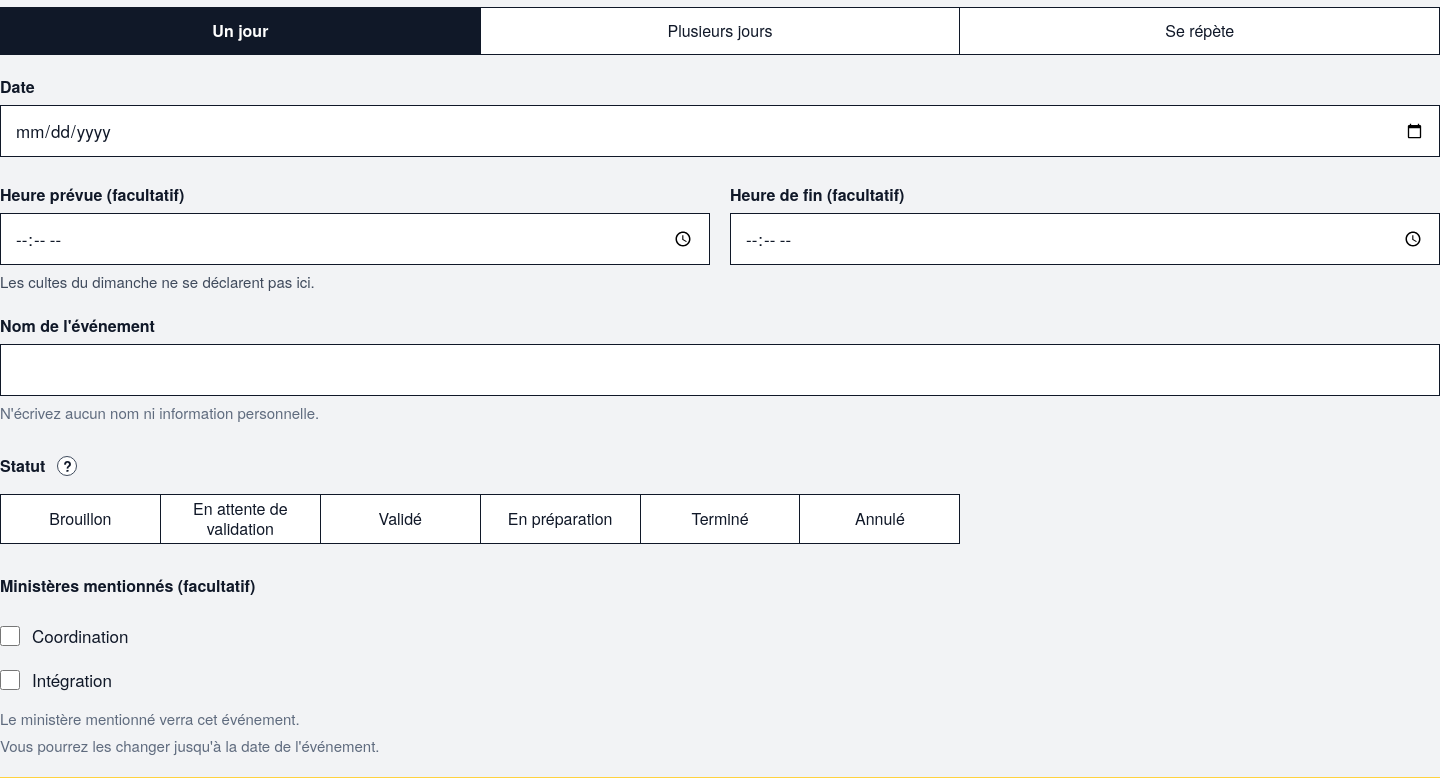
it: « Ajouter un événement » (maquette 11) › envoi : valeurs nettoyées, message de réussite, formulaire vidé
Type "2026-10-10" into the date field labelled "Date".
click(720, 131); type("2026-10-10")  # box [0,105,1439,157]
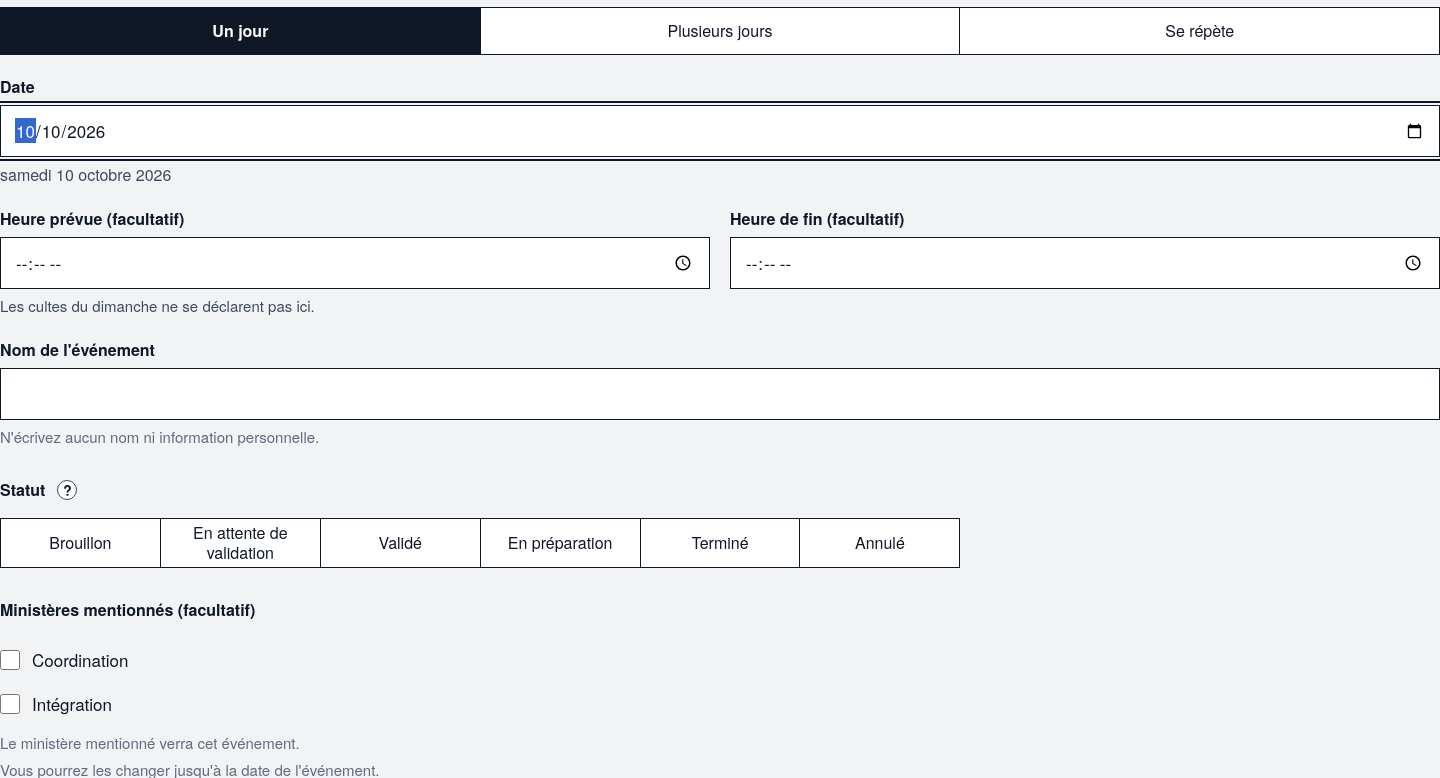
Type "  Soirée de louange " into the field labelled "Nom de l'événement".
click(720, 394); type("  Soirée de louange ")  # box [0,368,1439,420]
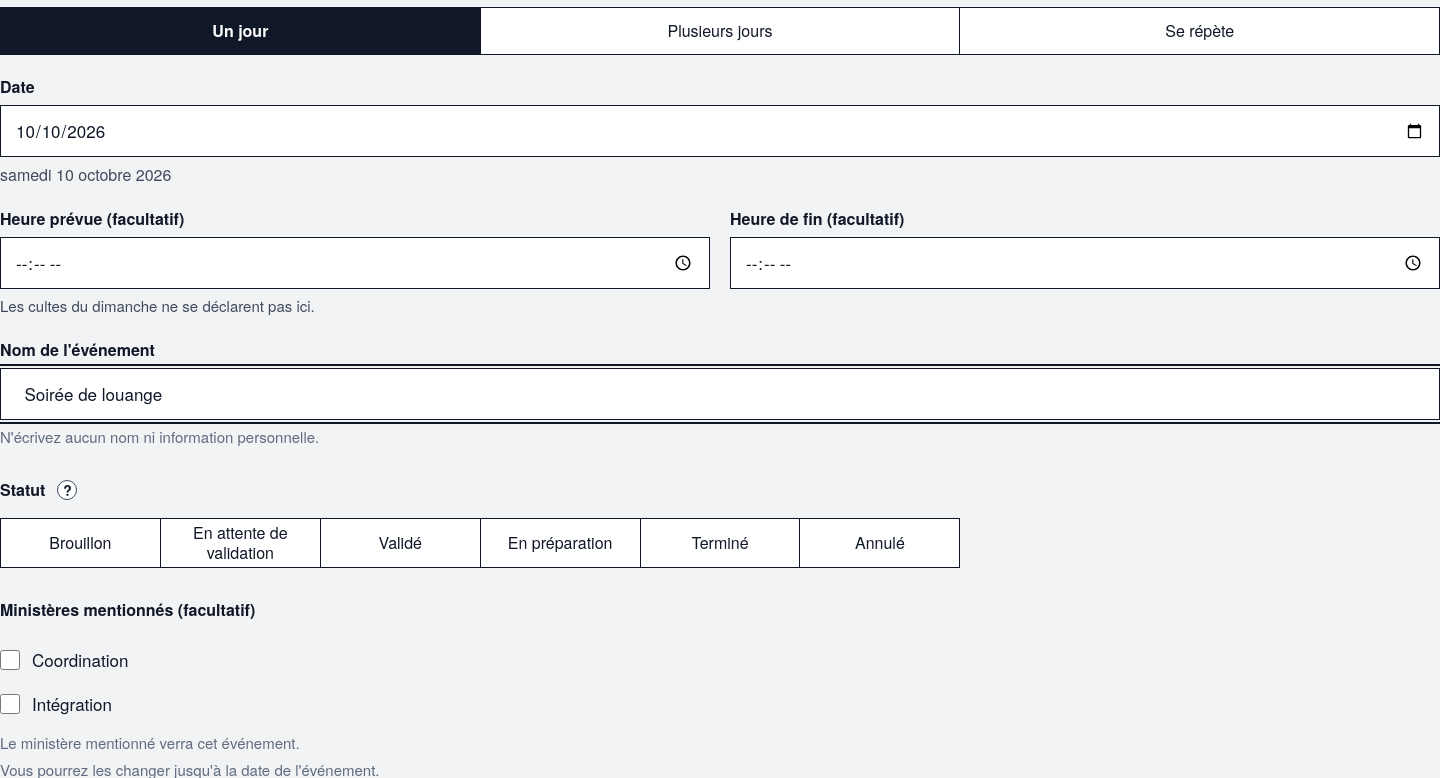
Click the radio button labelled "En attente de validation".
click(240, 543)  # box [160,518,321,568]
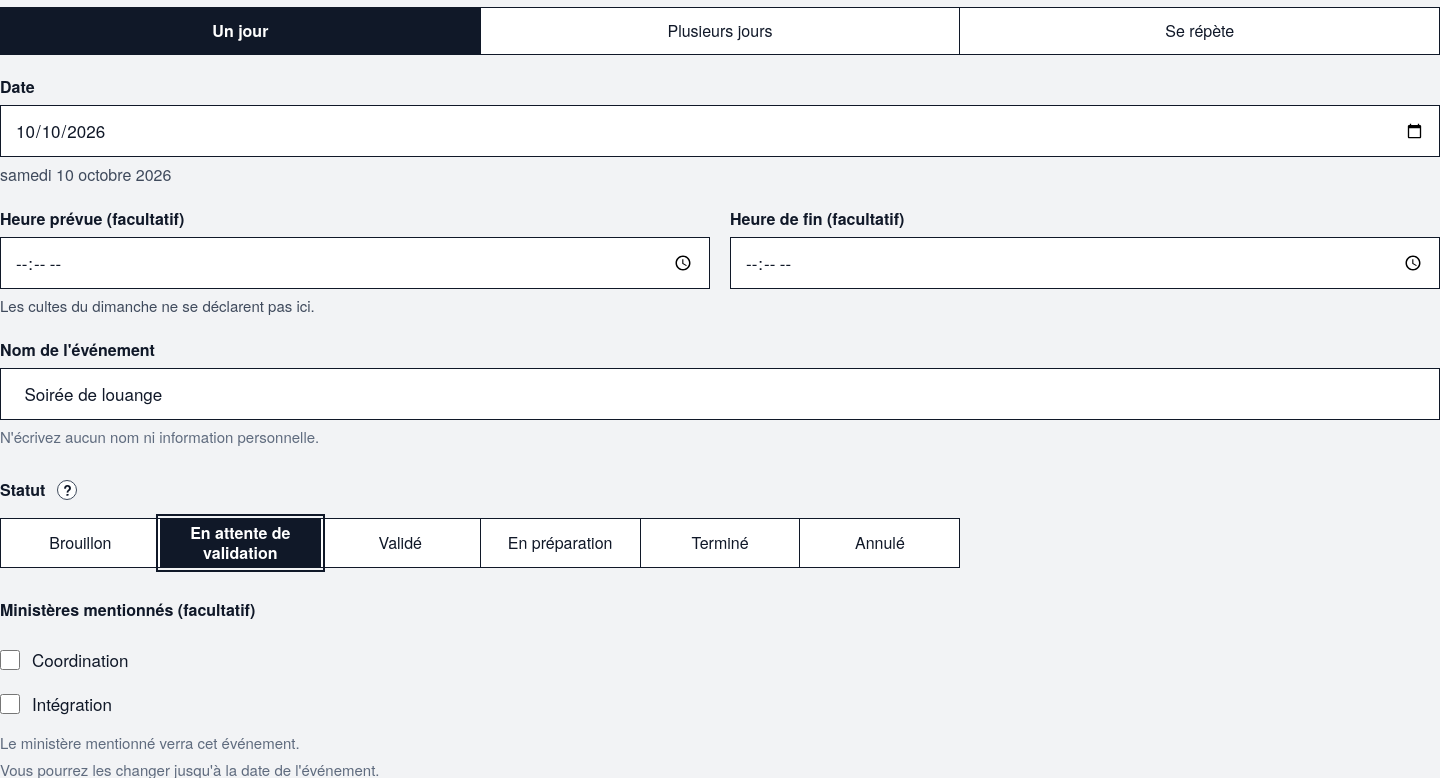
Click the checkbox labelled "Coordination".
click(10, 660)  # box [0,650,20,670]
(page scrolled)
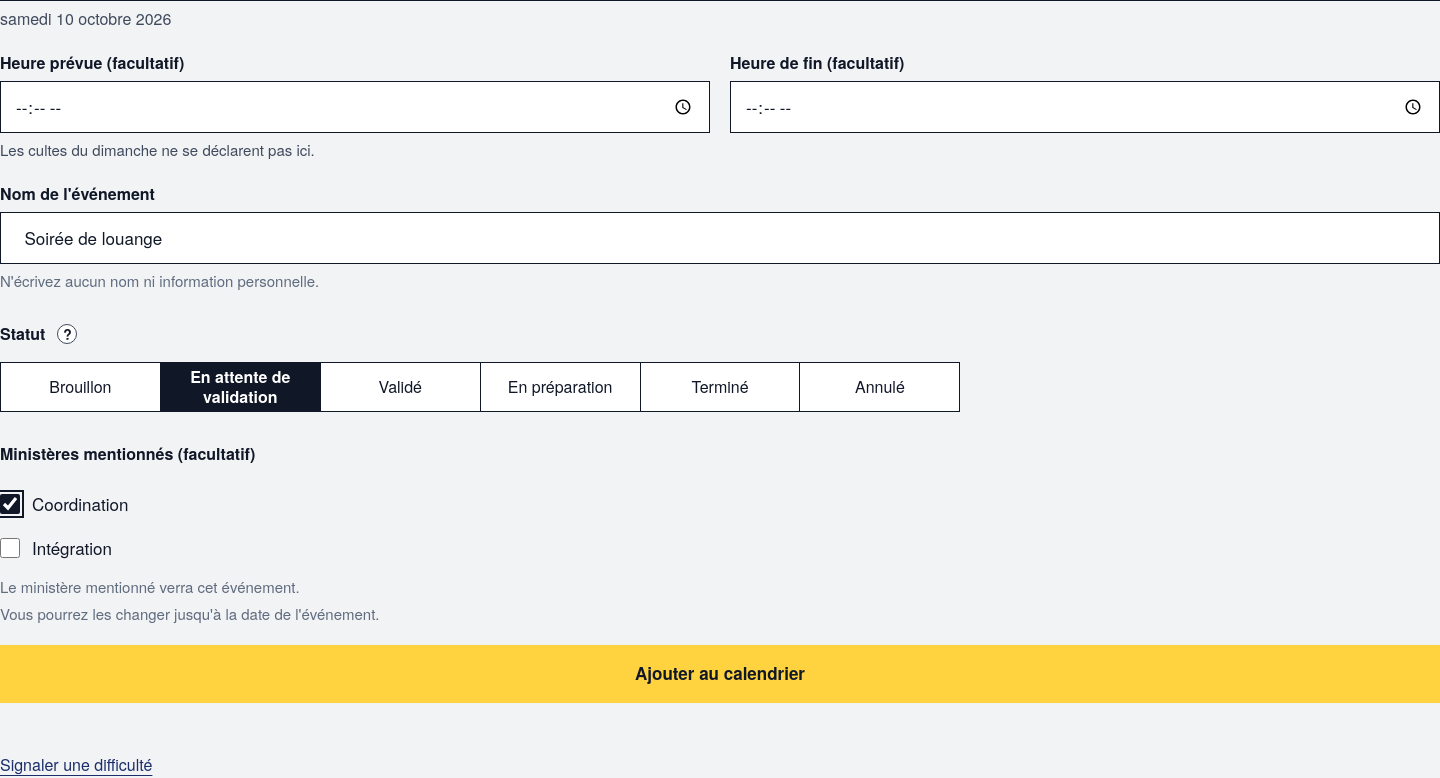
Click the button named "Ajouter au calendrier".
click(720, 674)  # box [0,645,1439,703]
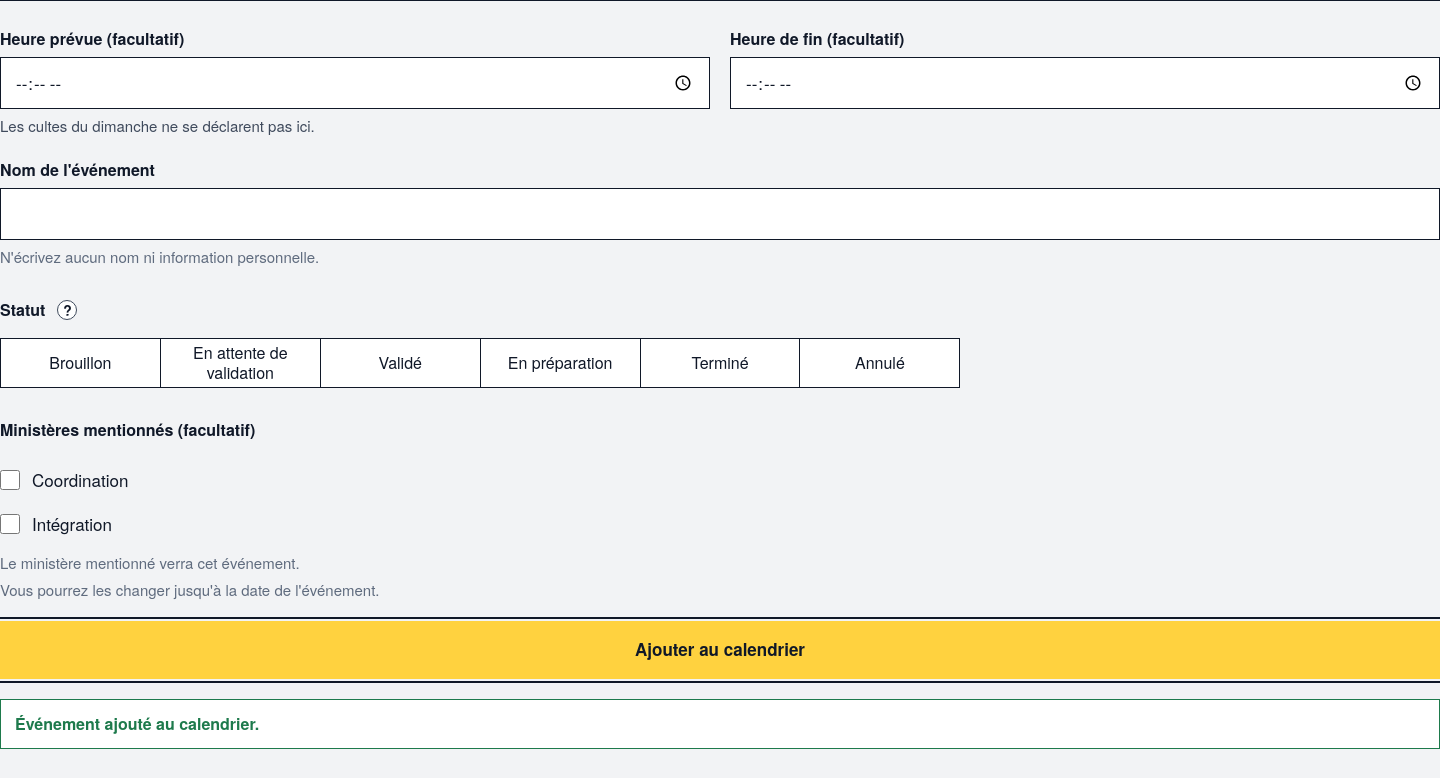
Check: the checkbox labelled "Coordination" is not checked, box [0,470,20,490]
Check: the text "Événement ajouté au calendrier." is shown, box [0,699,1439,749]
Check: the field labelled "Nom de l'événement" is empty, box [0,188,1439,240]
